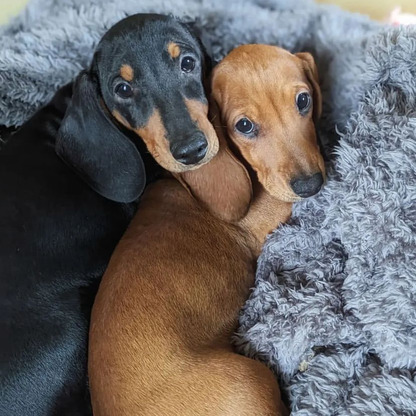dachshund: (200, 45, 334, 280), (52, 17, 224, 193)
